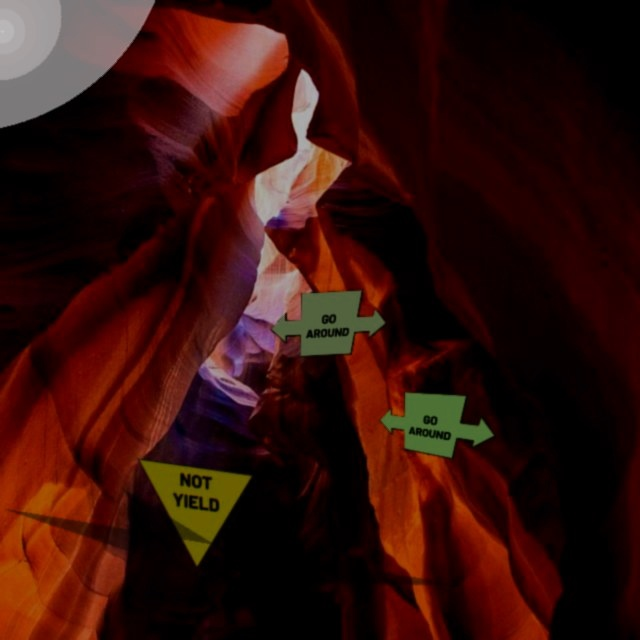GO_AROUND: (270, 289, 387, 357), (379, 391, 496, 459)
NOT_YIELD: (137, 458, 254, 569)
